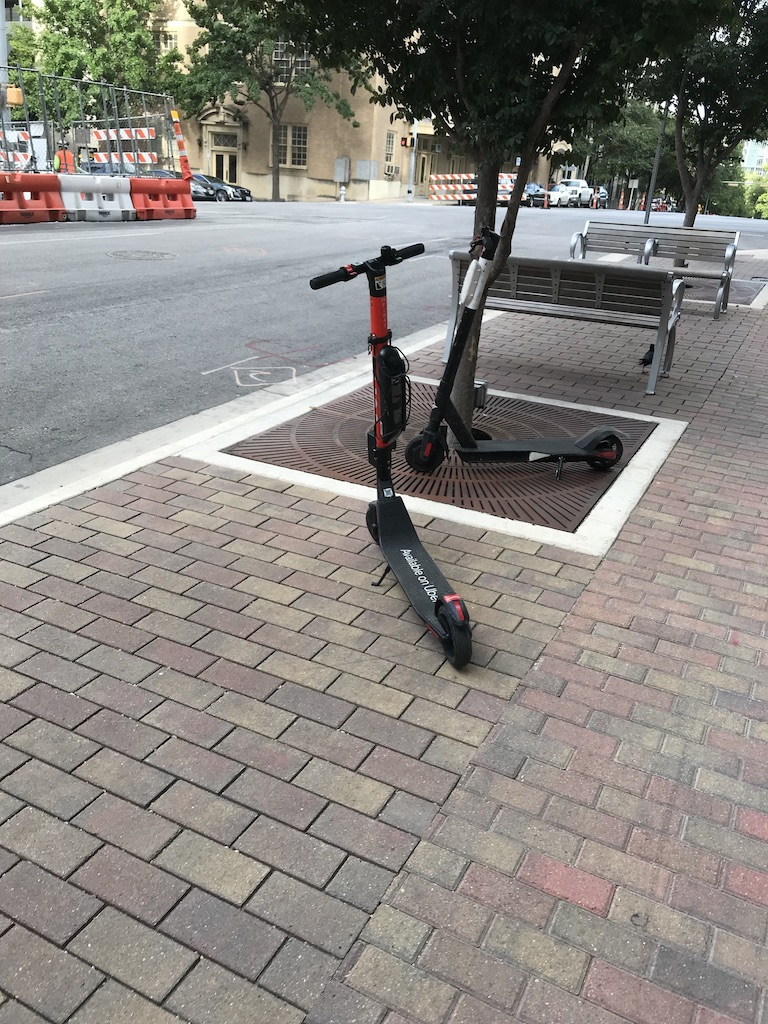scooter: (307, 241, 473, 673), (406, 219, 626, 475)
